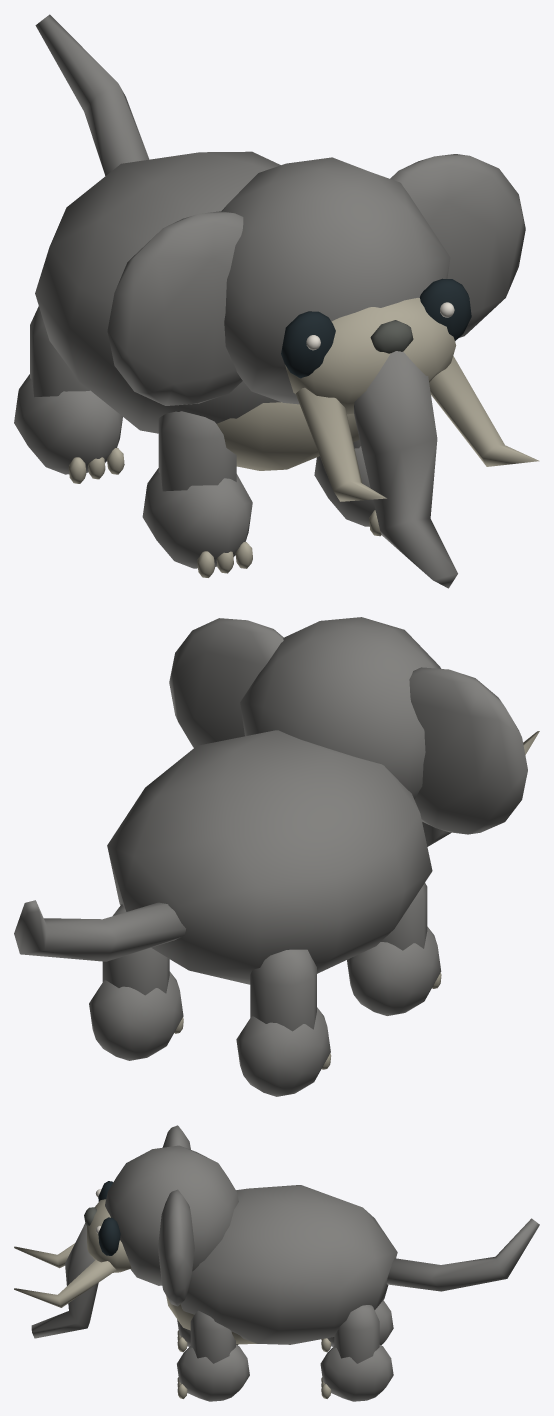
File: org_forestelephant.glb
The picture shows the model from 3 angles, top to bottom: view 1: azimuth 30°, elevation 25°; view 2: azimuth 150°, elevation 25°; view 3: azimuth 270°, elevation 25°; orthographic projection. The views are drawn at different scales.
Visible parts, largest first — view 1: Head, Body, Leg_FR, Leg_BR, Tail, Eye_R, Eye_L, Leg_FL; view 2: Body, Head, Leg_BR, Leg_BL, Leg_FR, Tail; view 3: Body, Head, Leg_BL, Leg_FL, Tail, Eye_L, Leg_BR.
Boxes of the visible parts, x1,y1,x2,y2 form: Head: (107, 154, 539, 588); Body: (35, 151, 359, 470); Leg_FR: (142, 411, 252, 577); Leg_BR: (14, 306, 124, 483); Tail: (35, 14, 149, 175); Eye_R: (281, 311, 335, 378); Eye_L: (420, 278, 471, 340); Leg_FL: (314, 440, 381, 536); Body: (107, 730, 432, 984); Head: (169, 617, 539, 846); Leg_BR: (236, 949, 331, 1096); Leg_BL: (89, 904, 183, 1060); Leg_FR: (347, 883, 441, 1015); Tail: (14, 900, 185, 961); Body: (166, 1185, 397, 1344); Head: (14, 1125, 238, 1338); Leg_BL: (320, 1305, 393, 1401); Leg_FL: (177, 1310, 249, 1401); Tail: (386, 1218, 539, 1291); Eye_L: (96, 1217, 120, 1255); Leg_BR: (321, 1300, 393, 1352).
Size of the model in its own units: 1.13 by 1.03 by 2.2.
